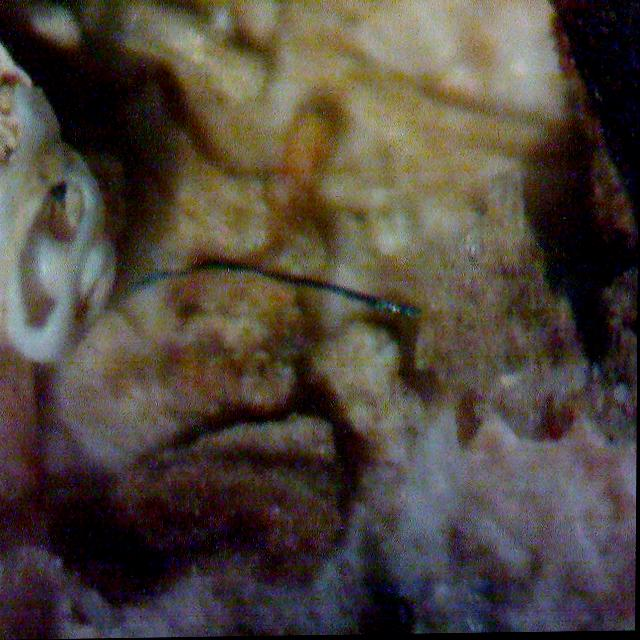microplastic: (130, 265, 422, 319)
